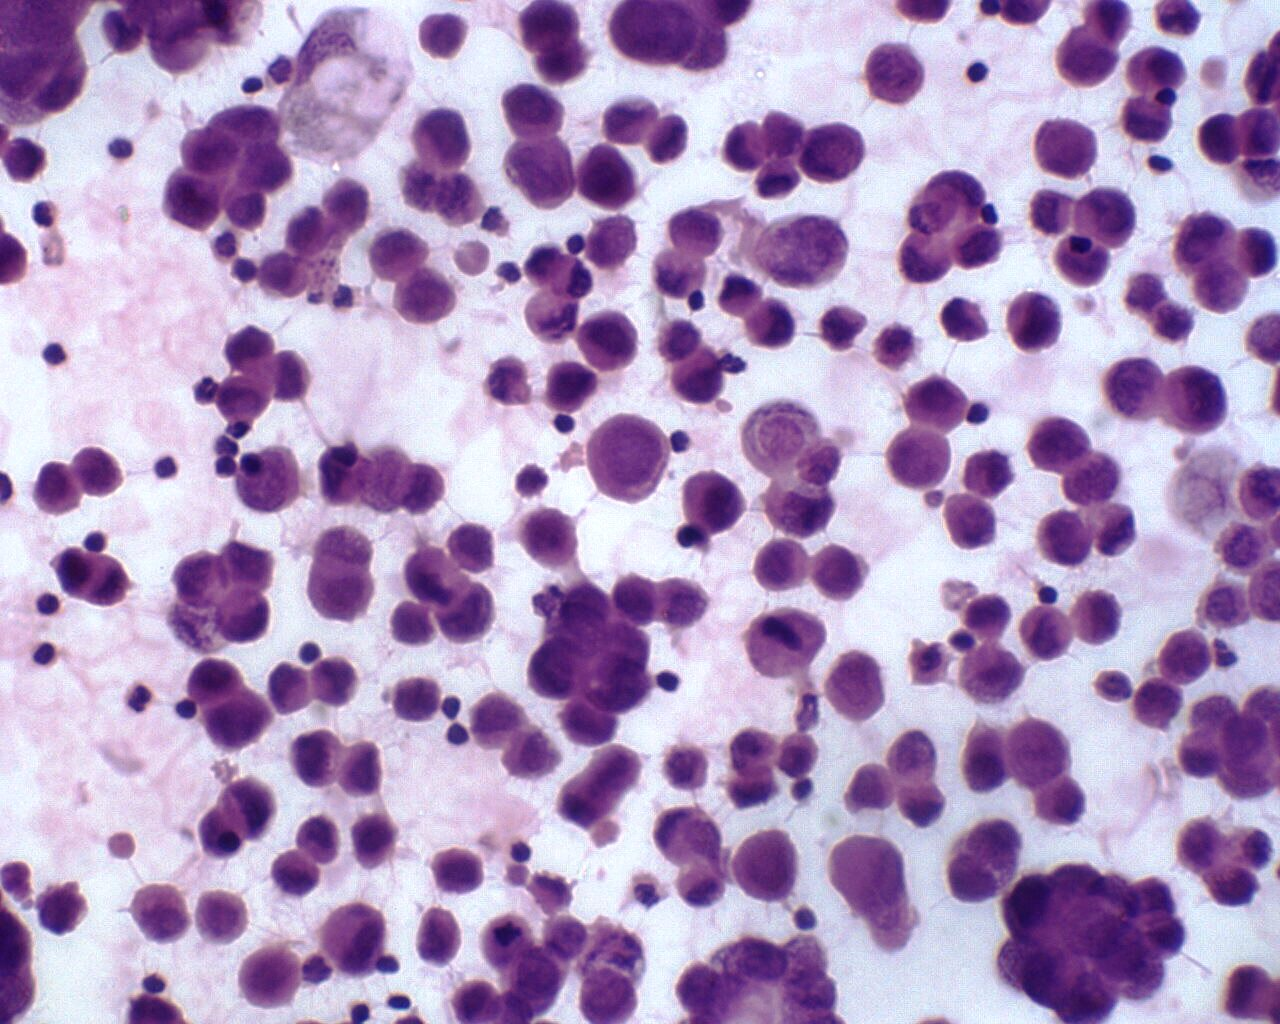ab: (583, 412, 676, 506), (497, 135, 575, 211), (1163, 363, 1238, 440), (729, 827, 801, 906), (823, 649, 889, 732), (1005, 714, 1077, 786), (572, 138, 643, 210), (200, 686, 275, 754), (156, 167, 229, 235), (678, 469, 746, 538), (1171, 207, 1238, 277), (495, 80, 574, 139), (390, 264, 460, 329), (798, 122, 869, 186), (408, 104, 474, 171), (578, 307, 643, 375), (864, 40, 927, 110), (884, 425, 953, 488), (1027, 414, 1092, 479), (1034, 117, 1099, 182), (1076, 184, 1138, 251), (517, 507, 582, 568), (1008, 288, 1067, 355), (577, 968, 644, 1024), (941, 222, 1009, 277), (812, 540, 867, 607), (194, 886, 254, 948), (544, 360, 605, 418), (290, 726, 342, 793), (752, 538, 812, 595), (942, 493, 998, 554), (1038, 508, 1092, 568), (68, 442, 124, 497), (1068, 587, 1122, 644), (1161, 628, 1214, 685), (417, 8, 469, 65)
lymph: (290, 638, 331, 671), (504, 839, 539, 870), (653, 665, 685, 698), (965, 399, 998, 430), (152, 453, 184, 483), (236, 69, 269, 98), (28, 638, 59, 669), (440, 723, 470, 748), (967, 56, 991, 85)
neutro: (188, 371, 222, 408)
